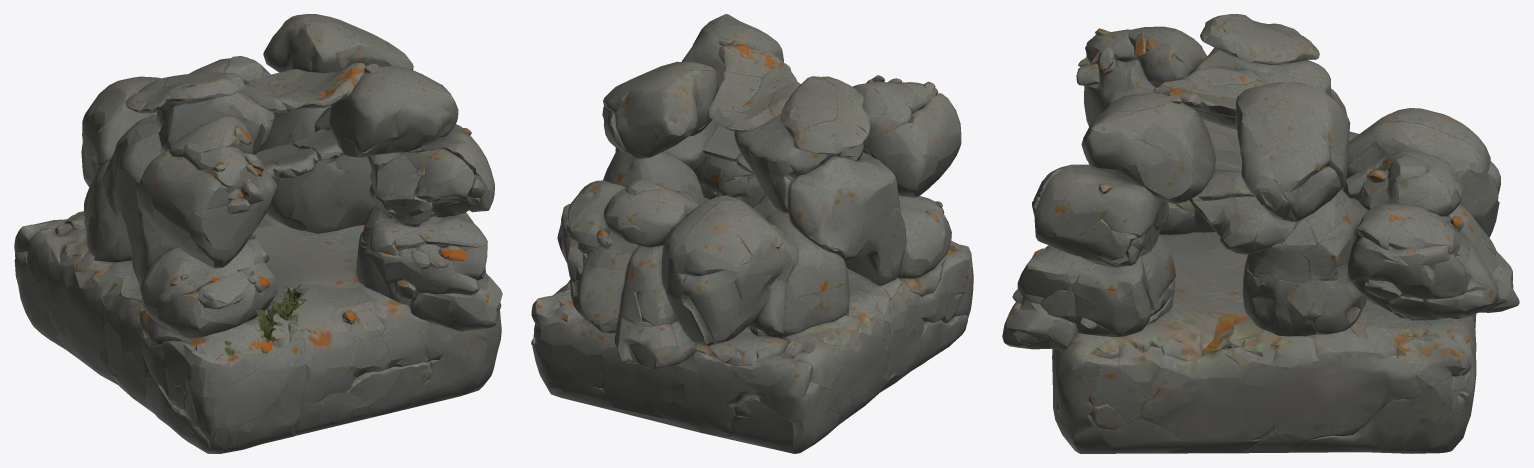
Rendered from Granite_Rock_Shelter.glb.
3 views of the same model, side by side, from view 1: azimuth 30°, elevation 25°; view 2: azimuth 150°, elevation 25°; view 3: azimuth 270°, elevation 25° (orthographic). The views are drawn at different scales.
Size of the model in its own units: 1.4 by 1.34 by 1.9.
Materials: 1 (1 with a texture image).
